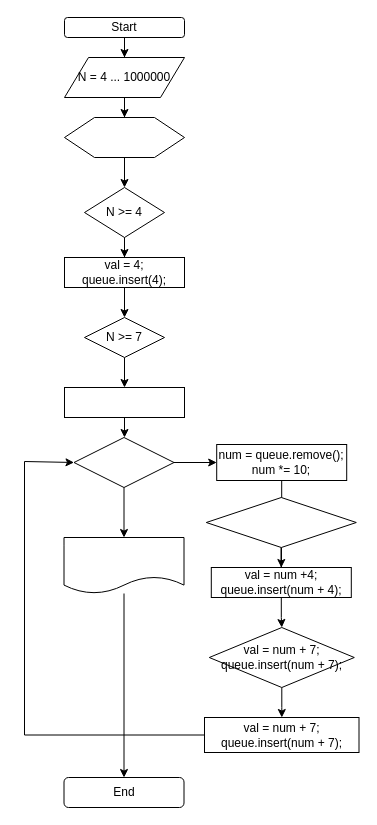
The diagram is 377 pixels wide and 825 high, and some of its shapes have lost their labels. Each missing label, with the box of its shape:
!queue.empty(): (73, 436, 174, 488)
num + 4 <= N: (205, 496, 356, 548)
val: (63, 536, 184, 594)
val = 0 queue = Queue();: (64, 116, 184, 158)
val = 7; queue.insert(7);: (64, 386, 184, 418)
